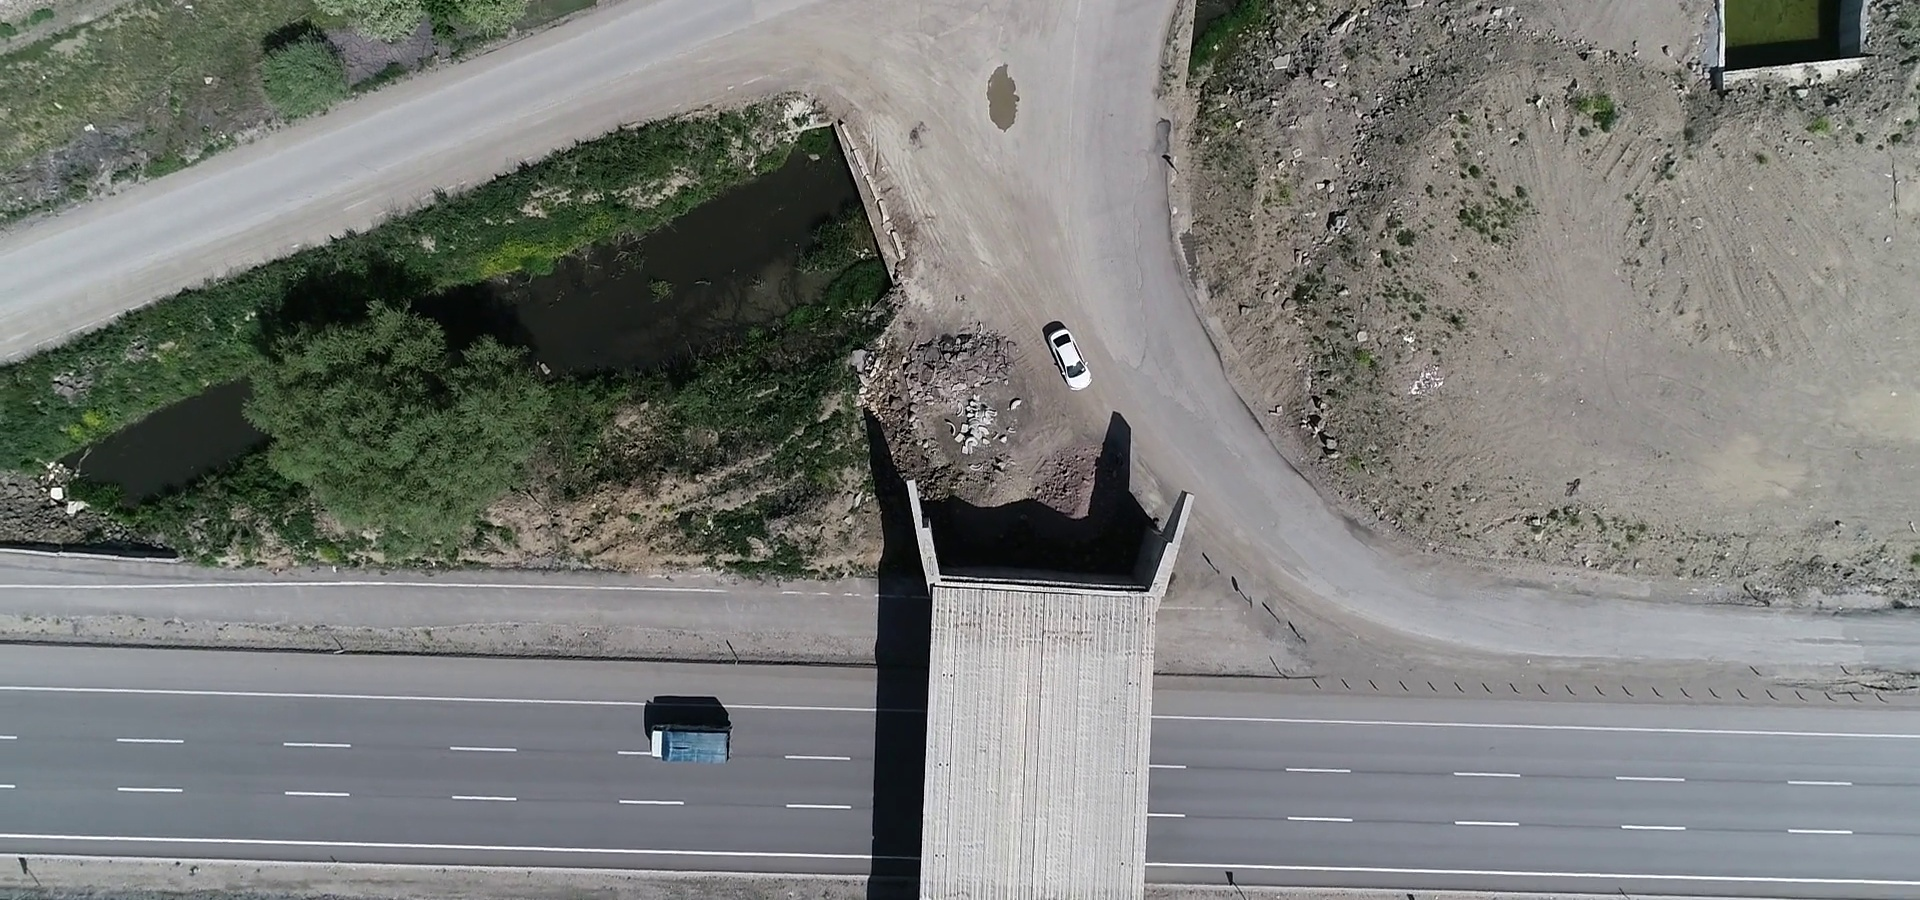araba: (644, 715, 741, 765), (1042, 309, 1091, 404)
